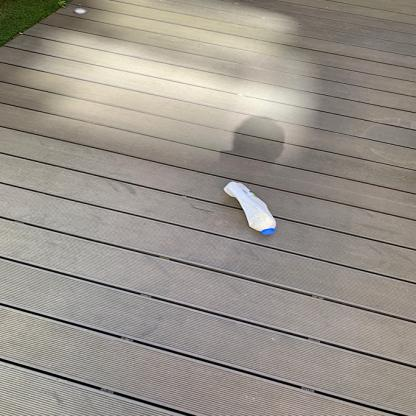trash: (223, 180, 278, 238)
